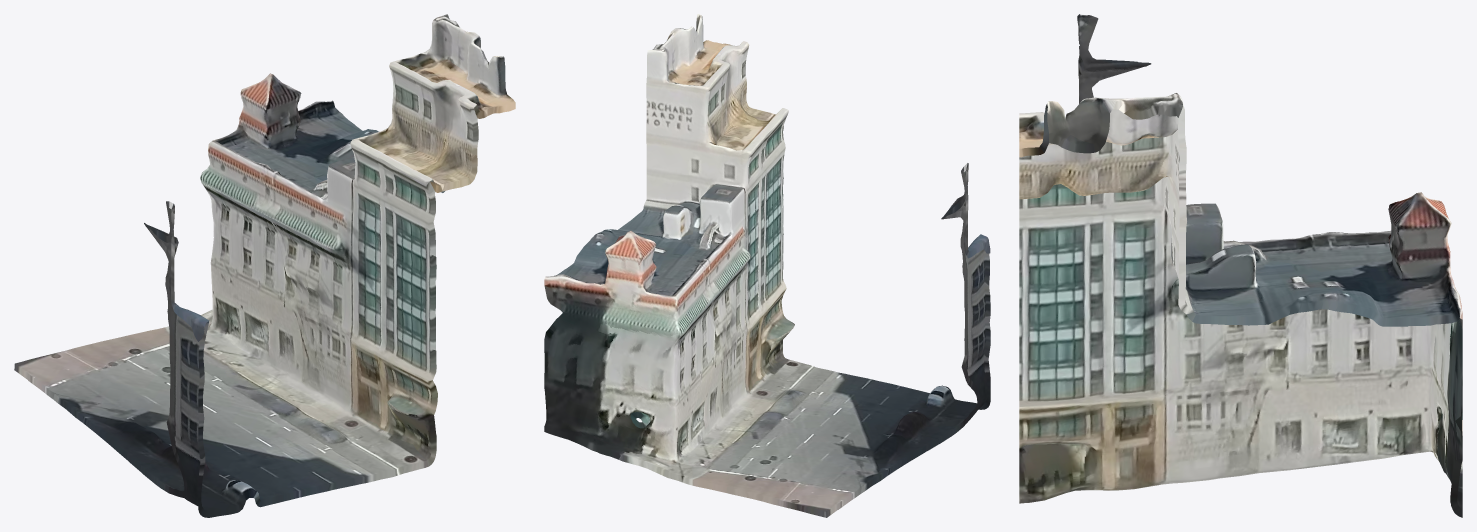
Rendered from z20-167756-405238-h0-yup-uvflip-v3-world.glb.
The picture shows the model from 3 angles, left to right: view 1: azimuth 30°, elevation 25°; view 2: azimuth 150°, elevation 25°; view 3: azimuth 270°, elevation 25°; orthographic projection. The views are drawn at different scales.
Size of the model in its own units: 30.2 by 35.04 by 30.32.
Materials: 1 (1 with a texture image).
